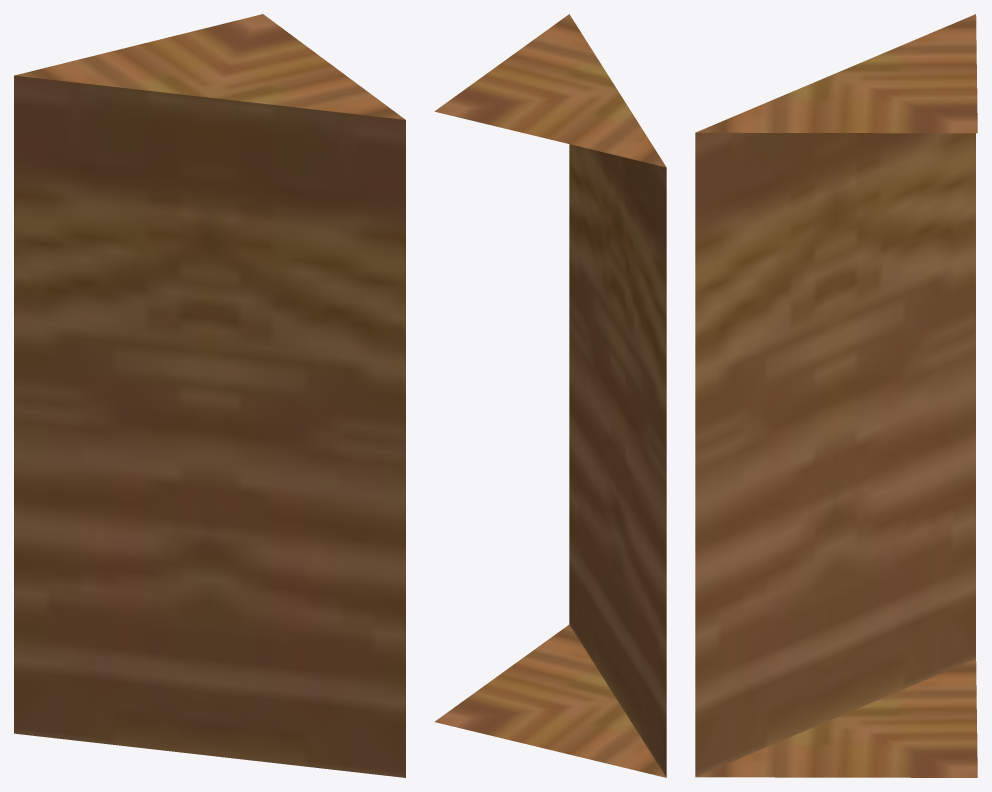
The model's file is Corner_Exterior_TopOnly.glb.
3 views of the same model, side by side, from view 1: azimuth 30°, elevation 25°; view 2: azimuth 150°, elevation 25°; view 3: azimuth 270°, elevation 25° (orthographic). The views are drawn at different scales.
Parts seen in each view (by area): view 1: Corner_Exterior_TopOnly; view 2: Corner_Exterior_TopOnly; view 3: Corner_Exterior_TopOnly.
Part boxes in pixels (x1,y1,x2,y2): Corner_Exterior_TopOnly: (14,14,405,777); Corner_Exterior_TopOnly: (434,14,666,777); Corner_Exterior_TopOnly: (695,14,977,777).
Size of the model in its own units: 0.0928 by 0.2335 by 0.0928.
1 material, 1 textured.
